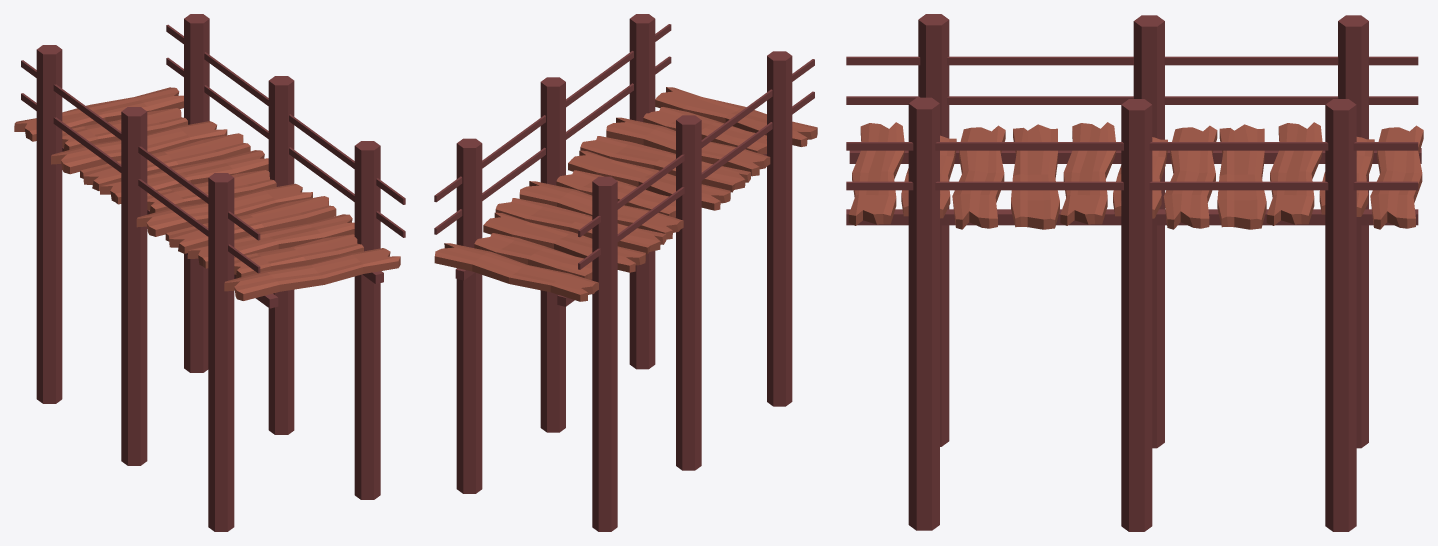
File: env_pier_railing.fbx
The picture shows the model from 3 angles, left to right: view 1: azimuth 30°, elevation 25°; view 2: azimuth 150°, elevation 25°; view 3: azimuth 270°, elevation 25°; orthographic projection. The views are drawn at different scales.
Visible parts, largest first — view 1: env_pier_railing; view 2: env_pier_railing; view 3: env_pier_railing.
Boxes of the visible parts, left/top/right/bottom form: env_pier_railing: left=14, top=14, right=405, bottom=531; env_pier_railing: left=434, top=14, right=817, bottom=531; env_pier_railing: left=846, top=14, right=1423, bottom=531.
Size of the model in its own units: 1382 by 555 by 1113.
